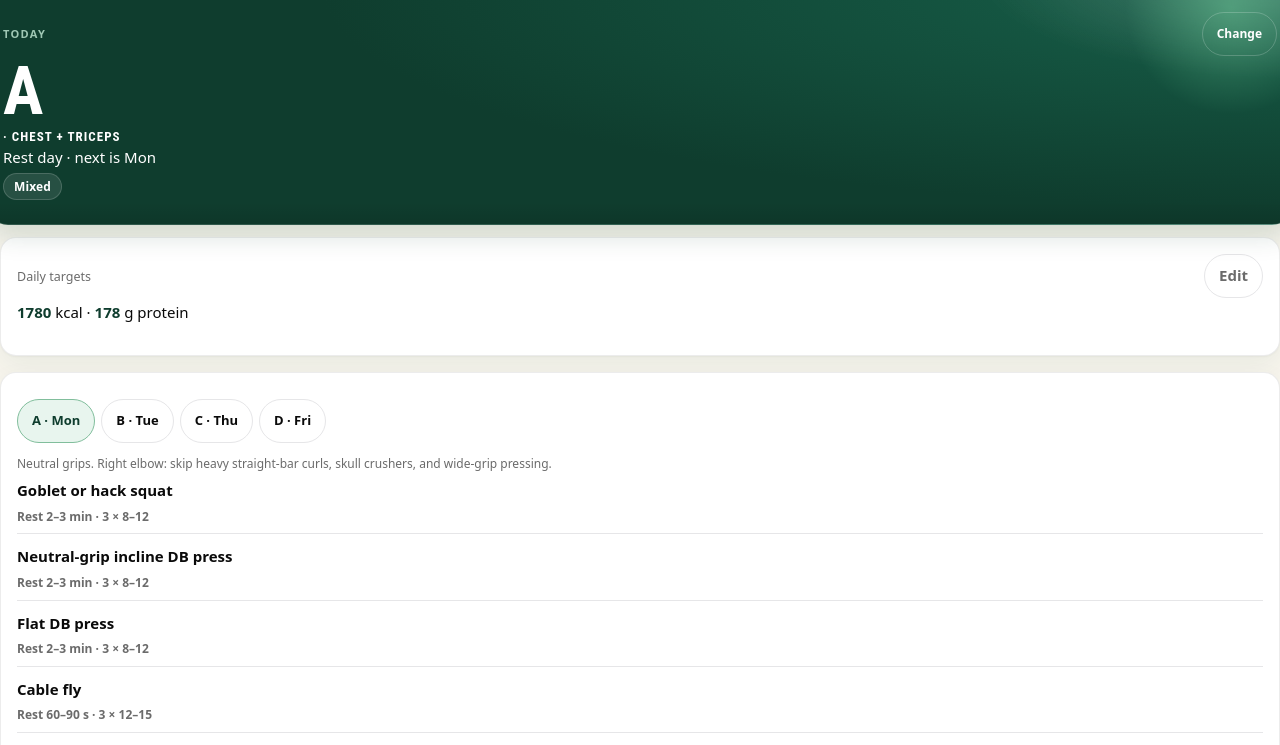
Test: change workout › updates the training goal from the sheet
The image size is (1280, 745).
Click the button with aria-label "Change workout": click(1239, 34) [1202,12,1277,56]
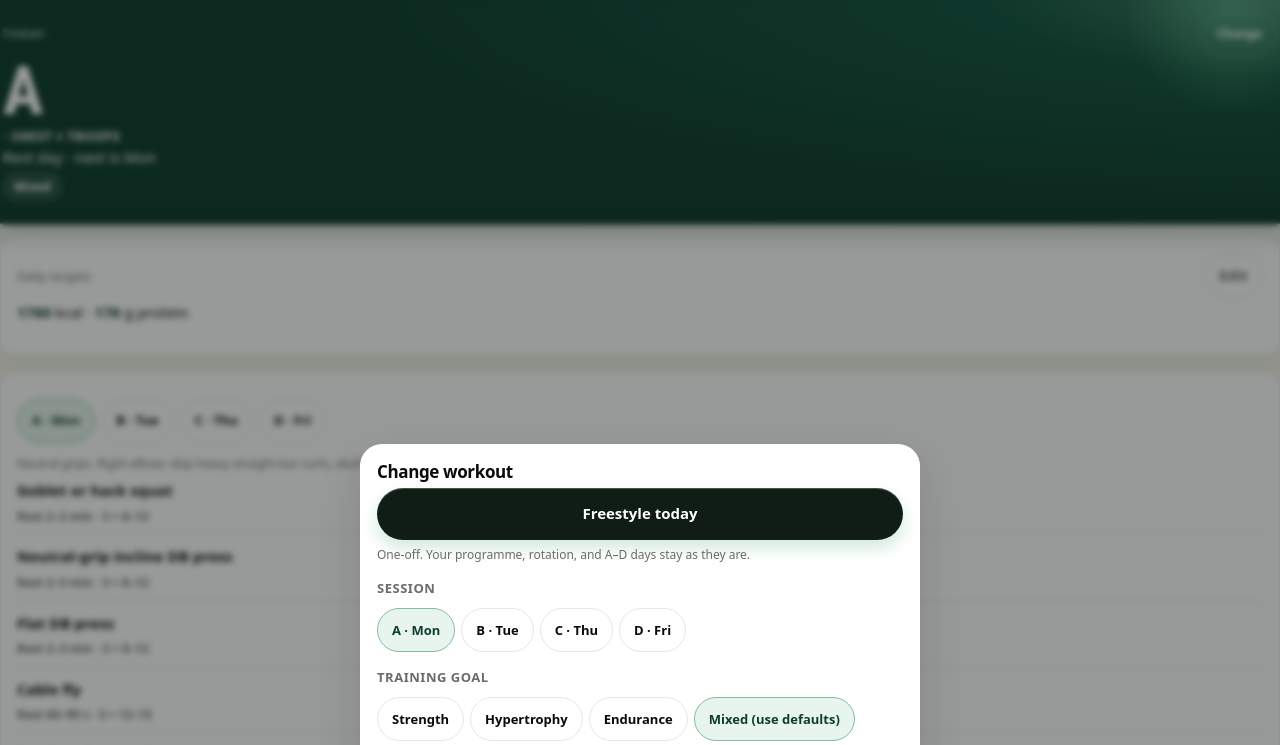
Click the button "Hypertrophy": click(526, 719) [470,697,583,741]
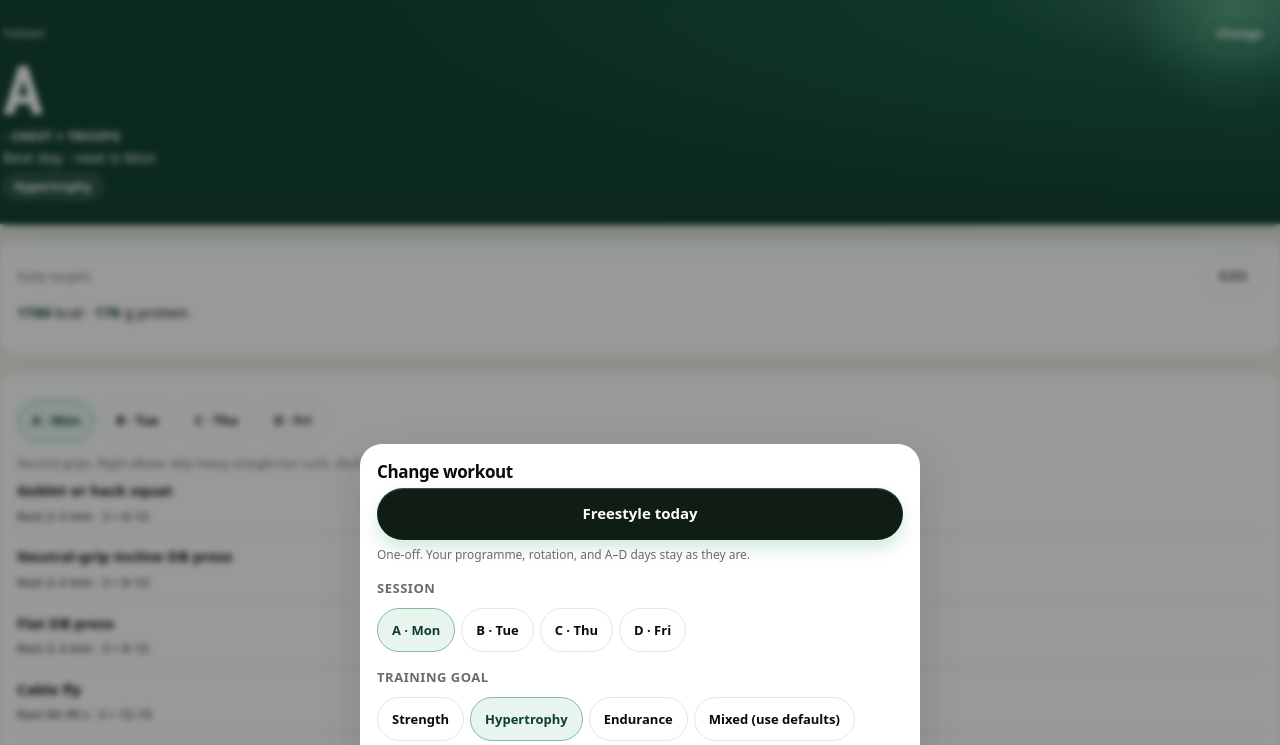
Expected: the text with class "goal-badge" reads "Hypertrophy", [14,178,92,195]
